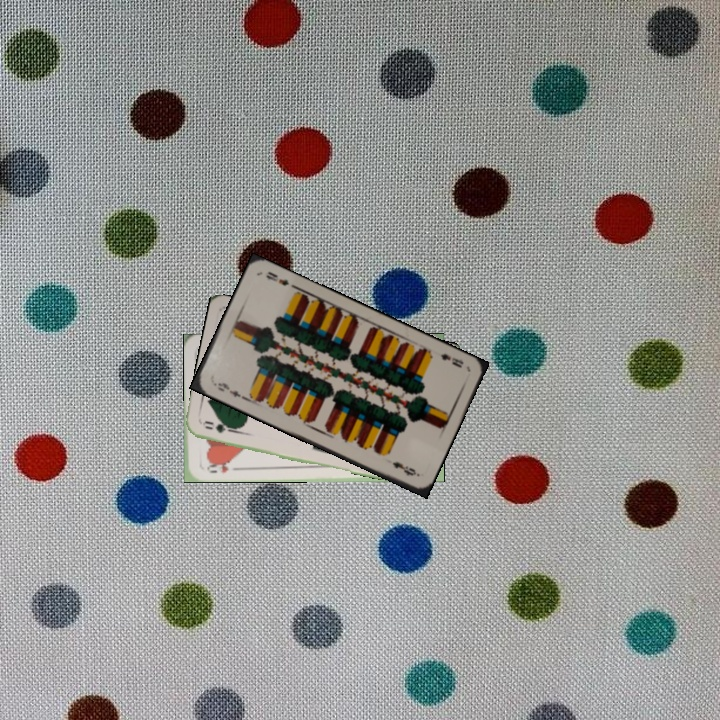E9: (209, 378, 247, 401), (436, 349, 466, 370)
GO: (199, 417, 239, 436)
HO: (203, 458, 233, 476)
